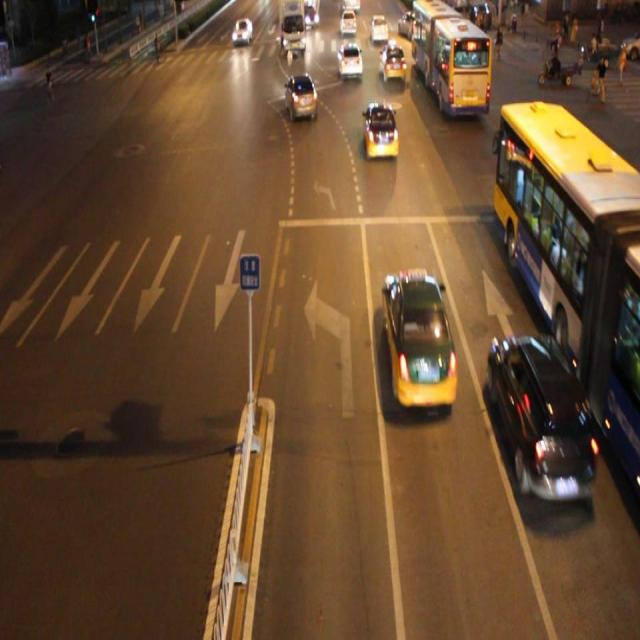car: (487, 330, 592, 502), (382, 267, 456, 406), (364, 98, 399, 159), (286, 71, 318, 120)
van: (495, 102, 640, 486), (413, 1, 488, 115)
